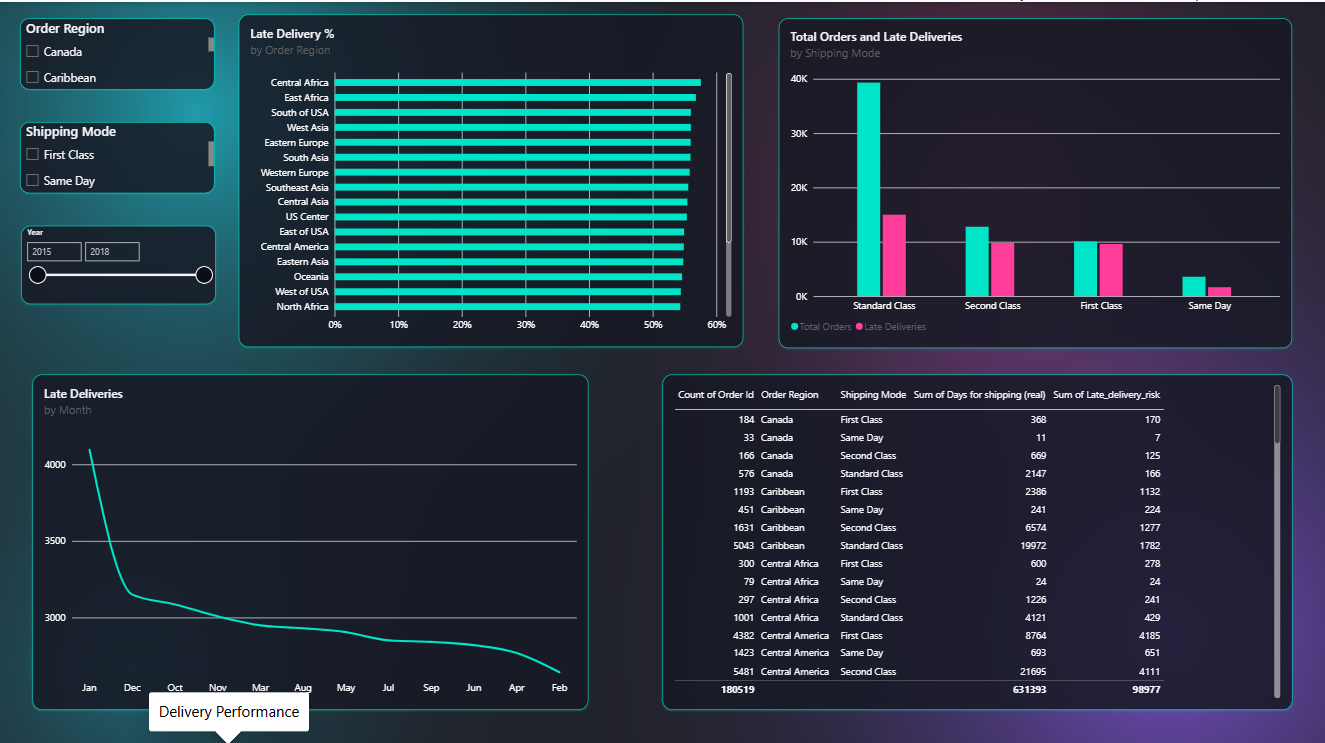

This screenshot's page, from the dashboard's own definition file:
{"tool":"powerbi","page":{"name":"Delivery Performance","canvas":[1920,1080],"ordinal":1},"visuals":[{"type":"barChart","fields":{"Category":["DataCoSupplyChainDataset.Order Region"],"Y":["'Measures'.Late Delivery %"]},"box":[345.8,18.5,730.7,481.6],"z":0},{"type":"clusteredColumnChart","fields":{"Category":["DataCoSupplyChainDataset.Shipping Mode"],"Y":["'Measures'.Total Orders","'Measures'.Late Deliveries"]},"box":[1128,22.6,743.1,477.5],"z":1000},{"type":"lineChart","fields":{"Category":["Dim_Date.Month"],"Y":["'Measures'.Late Deliveries"]},"box":[47.3,539.3,804.8,485.8],"z":2000},{"type":"tableEx","fields":{"Values":["CountNonNull(DataCoSupplyChainDataset.Order Id)","DataCoSupplyChainDataset.Order Region","DataCoSupplyChainDataset.Shipping Mode","Sum(DataCoSupplyChainDataset.Days for shipping (real))","Sum(DataCoSupplyChainDataset.Late_delivery_risk)"]},"box":[959.2,539.3,911.8,485.8],"z":3000},{"type":"slicer","fields":{"Values":["DataCoSupplyChainDataset.Order Region"]},"box":[28.8,22.6,282,102.9],"z":4000},{"type":"slicer","fields":{"Values":["DataCoSupplyChainDataset.Shipping Mode"]},"box":[28.8,172.9,282,102.9],"z":5000},{"type":"slicer","fields":{"Values":["Dim_Date.Year"]},"box":[30.9,323.2,282,113.2],"z":6000}]}

Visuals, with their boxes in screenshot pixels (x1, y1, x2, y2), scaled from the page's 1920x1080 canvas onto the 1325x743 screenshot:
barChart - DataCoSupplyChainDataset.Order Region x 'Measures'.Late Delivery %: [239,13,743,344]
clusteredColumnChart - DataCoSupplyChainDataset.Shipping Mode x 'Measures'.Total Orders: [778,16,1291,344]
lineChart - Dim_Date.Month x 'Measures'.Late Deliveries: [33,371,588,705]
tableEx - CountNonNull(DataCoSupplyChainDataset.Order Id) x DataCoSupplyChainDataset.Order Region: [662,371,1291,705]
slicer - DataCoSupplyChainDataset.Order Region: [20,16,214,86]
slicer - DataCoSupplyChainDataset.Shipping Mode: [20,119,214,190]
slicer - Dim_Date.Year: [21,222,216,300]
